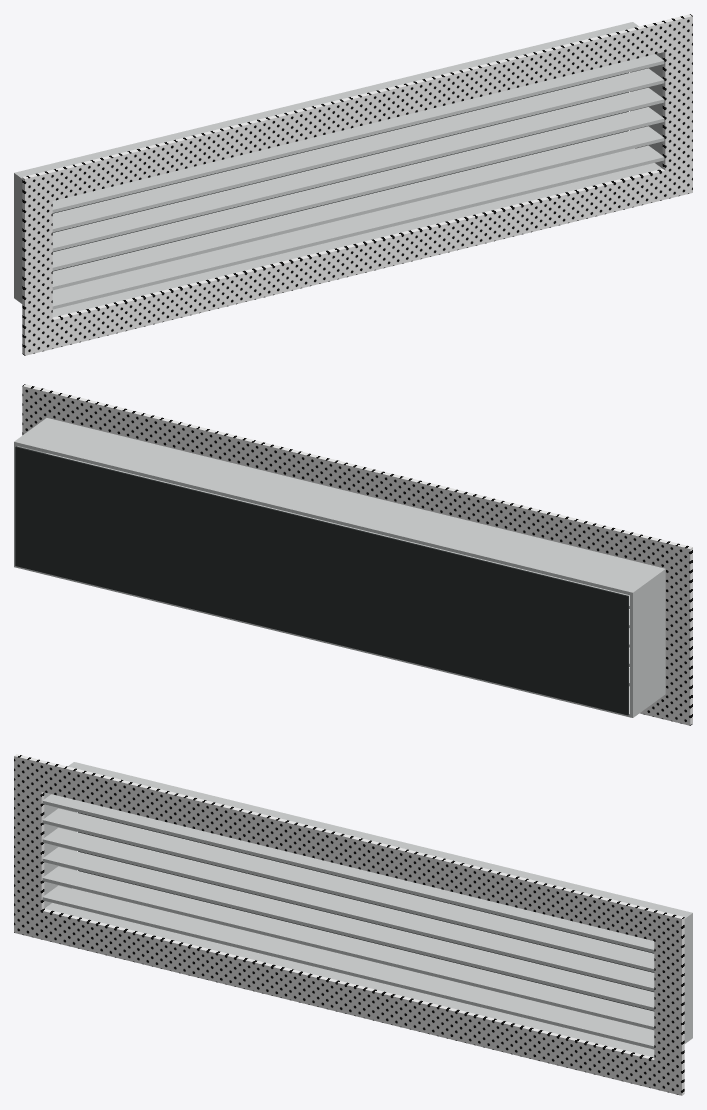
The model's file is ecoclima-ebls-400x75.glb.
The picture shows the model from 3 angles, top to bottom: view 1: azimuth 30°, elevation 25°; view 2: azimuth 150°, elevation 25°; view 3: azimuth 330°, elevation 25°; orthographic projection.
Parts seen in each view (by area): view 1: Profile_cornice, Profile_cornice.001, Profile_barra.003, Profile_barra, Profile_barra.001, Profile_barra.002, Profile_barra.004, Profile_barra.005, Profile_ritorno.001, Profile_ritorno, Profile_cornice.002, Profile_cornice.003 (+3 smaller); view 2: Interno, Profile_ritorno, Profile_cornice, Profile_ritorno.002, Profile_cornice.002, Profile_ritorno.001, Profile_cornice.001, Profile_barra.004; view 3: Profile_cornice, Profile_cornice.001, Profile_barra.003, Profile_barra, Profile_barra.001, Profile_barra.002, Profile_barra.004, Profile_barra.005, Profile_ritorno.001, Profile_ritorno, Profile_cornice.003, Profile_cornice.002 (+3 smaller).
Part boxes in pixels (x1,y1,x2,y2): Profile_cornice: (22,14,692,207); Profile_cornice.001: (22,164,692,355); Profile_barra.003: (52,87,664,251); Profile_barra: (52,145,664,309); Profile_barra.001: (52,126,664,290); Profile_barra.002: (52,107,664,270); Profile_barra.004: (52,68,664,232); Profile_barra.005: (52,54,664,212); Profile_ritorno.001: (14,148,662,317); Profile_ritorno: (14,22,638,181); Profile_cornice.002: (22,201,52,326); Profile_cornice.003: (662,45,692,170); Interno: (15,446,628,715); Profile_ritorno: (14,418,665,595); Profile_cornice: (22,384,692,577); Profile_ritorno.002: (630,572,665,714); Profile_cornice.002: (665,572,692,696); Profile_ritorno.001: (14,564,665,717); Profile_cornice.001: (639,691,692,725); Profile_barra.004: (46,453,629,608); Profile_cornice: (14,754,684,947); Profile_cornice.001: (14,904,684,1095); Profile_barra.003: (42,827,654,991); Profile_barra: (42,885,654,1049); Profile_barra.001: (42,866,654,1030); Profile_barra.002: (42,847,654,1010); Profile_barra.004: (42,808,654,972); Profile_barra.005: (42,794,654,952); Profile_ritorno.001: (44,888,692,1057); Profile_ritorno: (68,762,692,921); Profile_cornice.003: (654,941,684,1066); Profile_cornice.002: (14,785,44,910).
Bounding box in the file's own units: 0.435 × 0.11 × 0.042.
3 materials, 1 textured.
